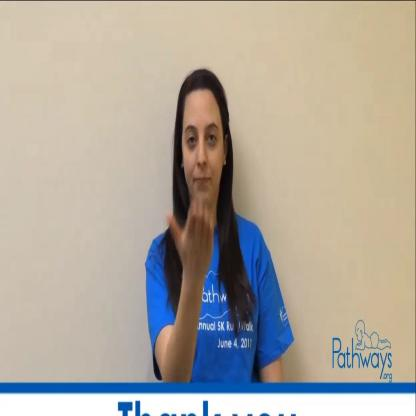ThankYou: (146, 35, 252, 316)
